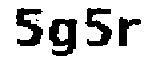5: (11, 5, 46, 51), (84, 2, 115, 52)
g: (47, 14, 82, 60)
r: (117, 13, 146, 52)
